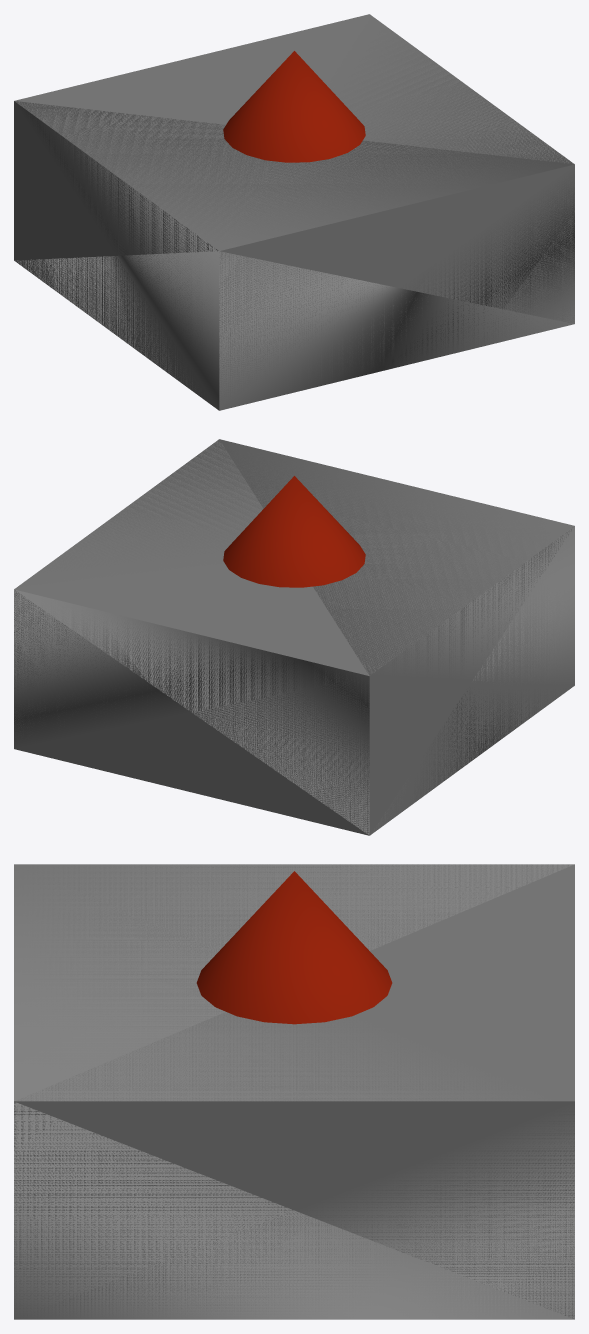
Rendered from LaserFixed.fbx.
3 renders of one model, top to bottom at view 1: azimuth 30°, elevation 25°; view 2: azimuth 150°, elevation 25°; view 3: azimuth 270°, elevation 25°, orthographic. The views are drawn at different scales.
Visible parts, largest first — view 1: pCone2; view 2: pCone2; view 3: pCone2.
Part boxes in pixels (x1=…): pCone2: x1=14, y1=14, x2=574, y2=410; pCone2: x1=14, y1=439, x2=574, y2=835; pCone2: x1=14, y1=864, x2=574, y2=1319.
Bounding box in the file's own units: 1 × 0.6493 × 1.
